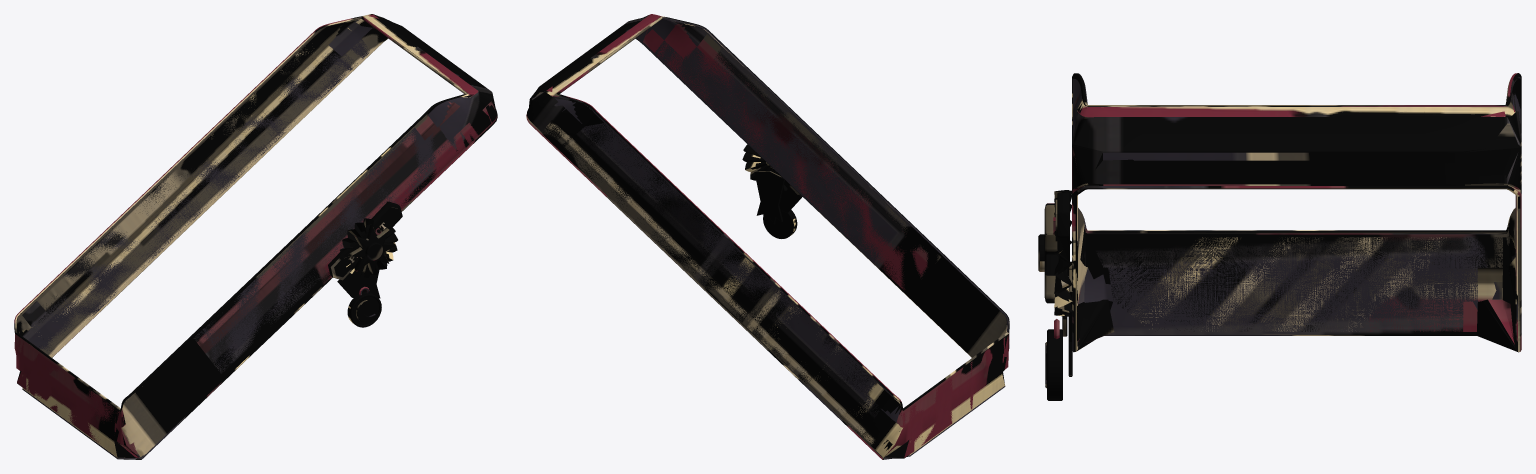
File: NHAcc_Sashes.fbx
3 views of the same model, side by side, from view 1: azimuth 30°, elevation 25°; view 2: azimuth 150°, elevation 25°; view 3: azimuth 270°, elevation 25° (orthographic). The views are drawn at different scales.
Visible parts, largest first — view 1: HeadSash, PrefectSash; view 2: HeadSash, PrefectSash; view 3: HeadSash, PrefectSash.
Part boxes in pixels (x1,y1,x2,y2): HeadSash: (14, 14, 497, 459); PrefectSash: (14, 14, 497, 457); HeadSash: (526, 16, 1009, 459); PrefectSash: (527, 14, 1009, 458); HeadSash: (1038, 73, 1521, 376); PrefectSash: (1045, 77, 1520, 400).
Size of the model in its own units: 2.07 by 1.49 by 1.15.
